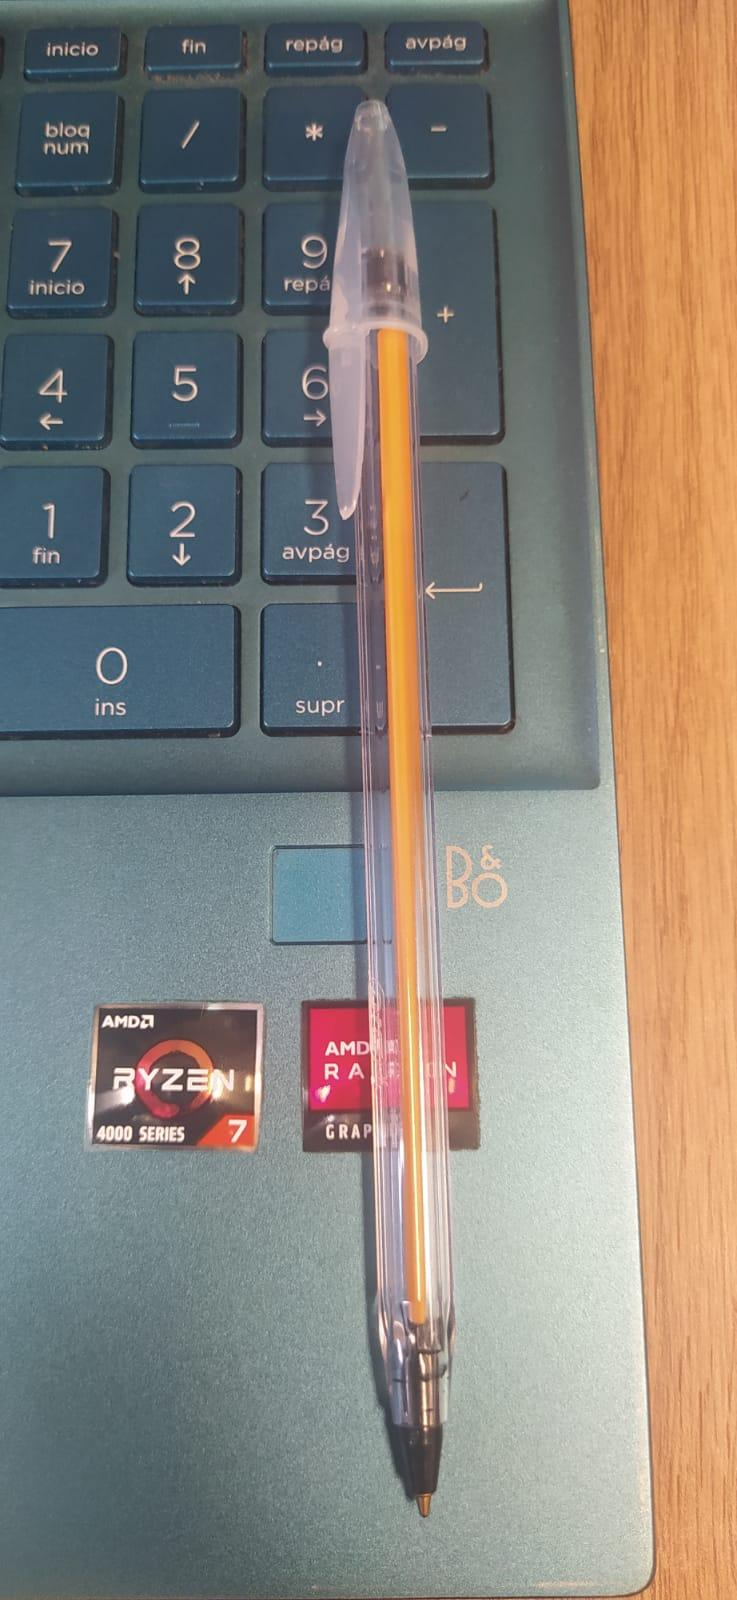pen: (324, 91, 463, 1520)
